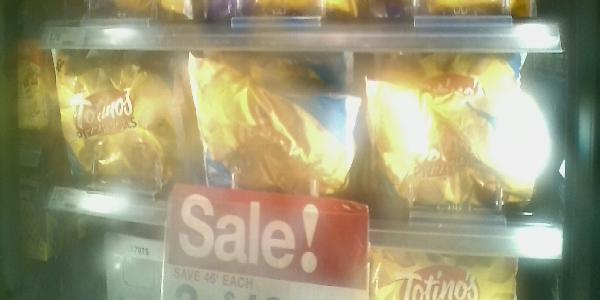icecream: (360, 59, 559, 228), (188, 44, 365, 231), (42, 37, 206, 222)
